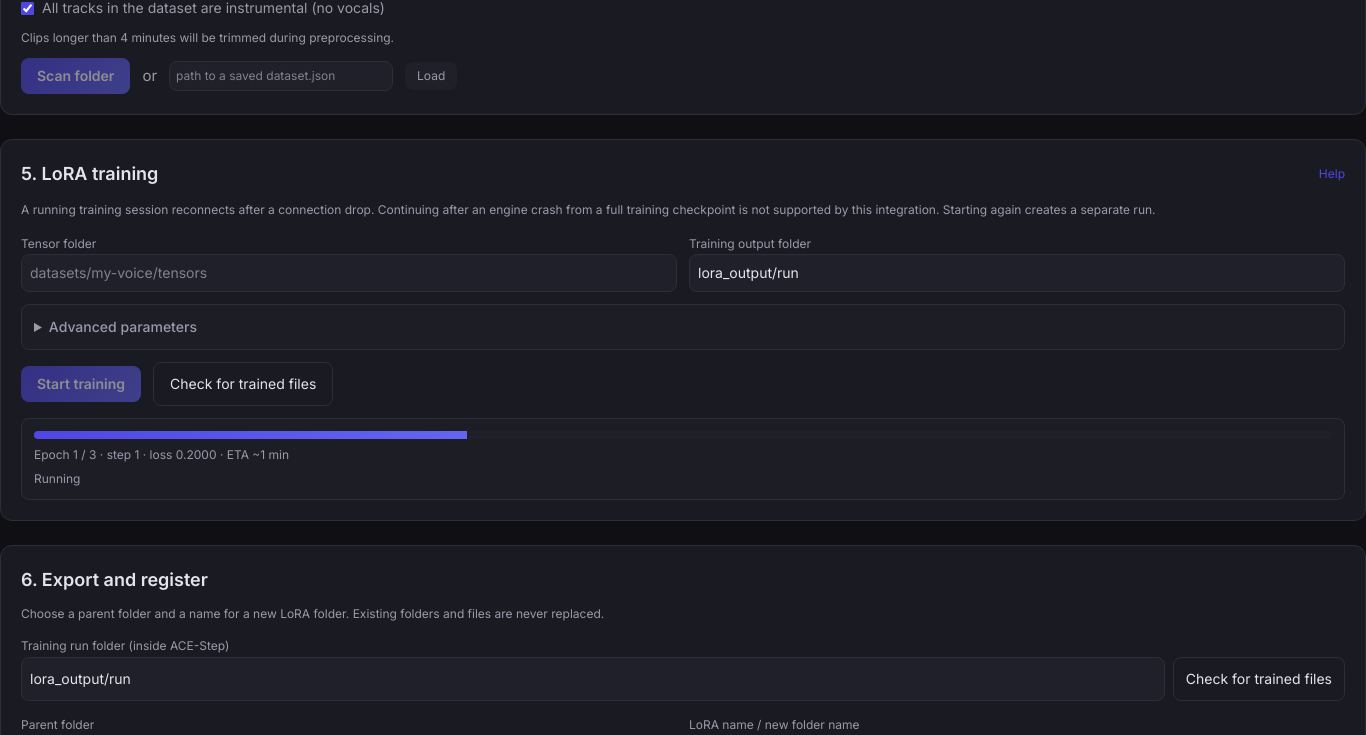
it: shows a safe check failure without presenting it as a missing adapter
The width and height of the screenshot is (1366, 735).
(page scrolled)
Click the button "Check for trained files" below "Advanced parameters": (243, 384) [153,362,333,406]
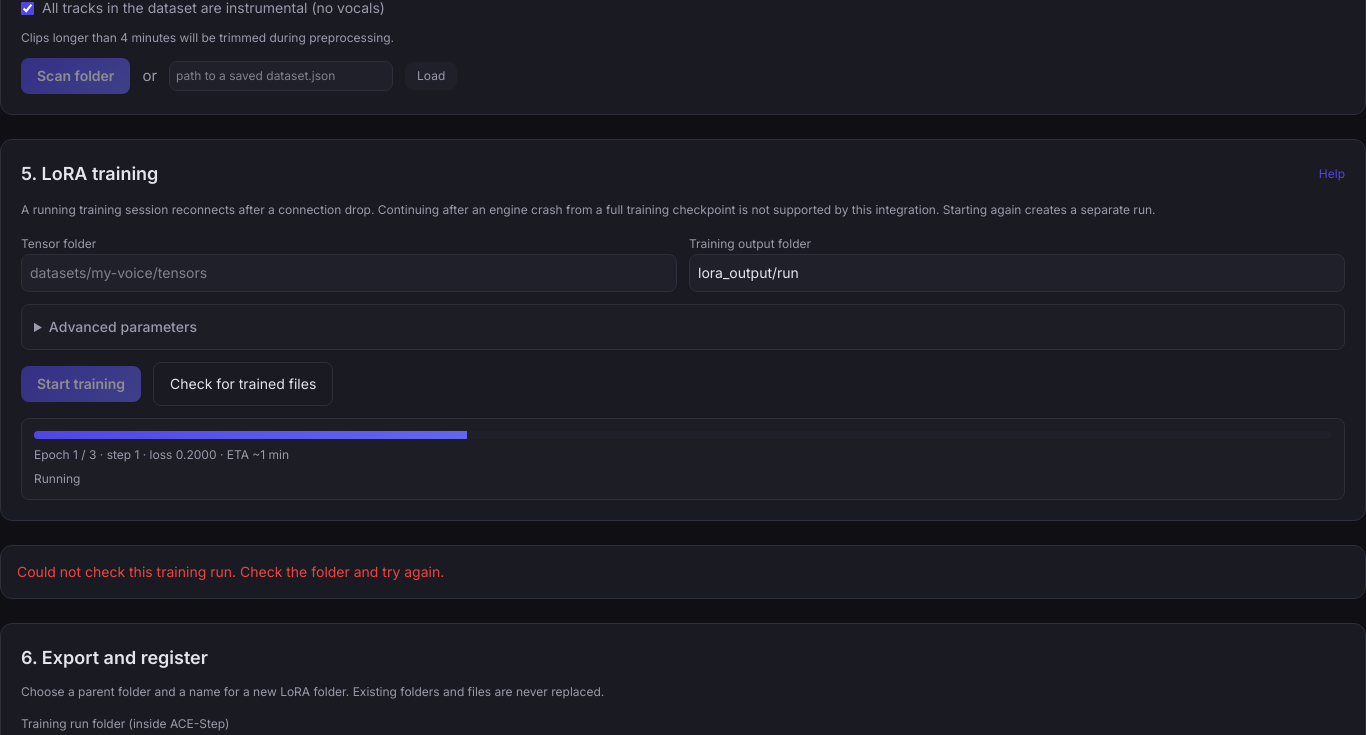
Expected: the message "Could not check this training run. Check the folder and try again." is shown, [17,563,444,580]
